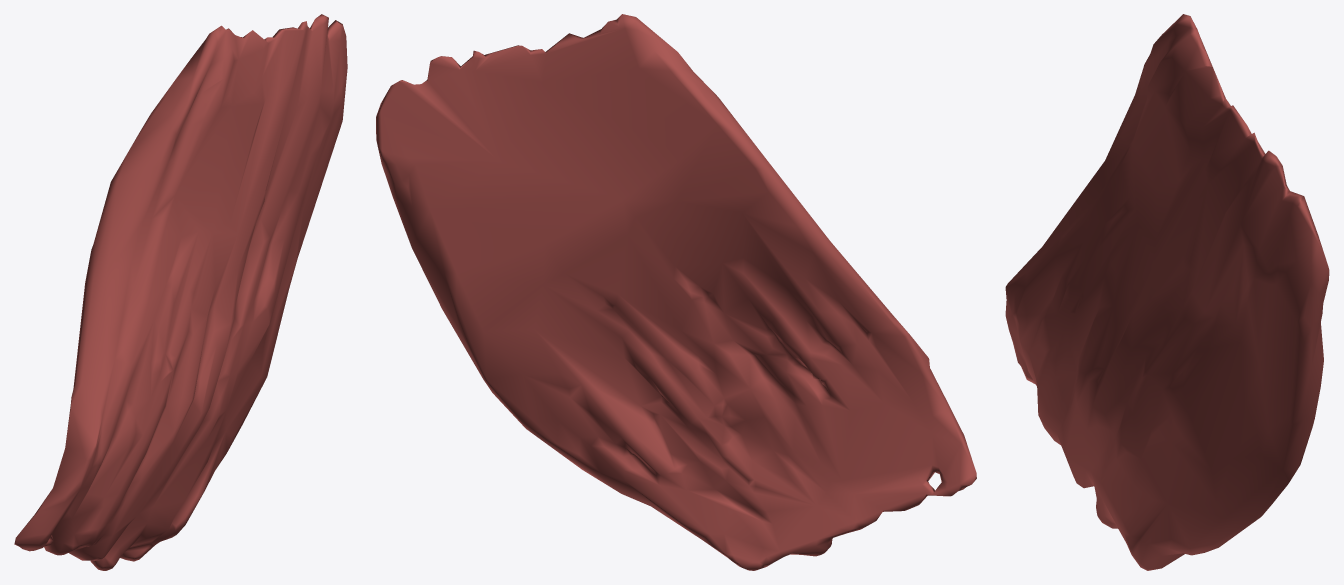
Rendered from FMA46827.glb.
3 renders of one model, left to right at view 1: azimuth 30°, elevation 25°; view 2: azimuth 150°, elevation 25°; view 3: azimuth 270°, elevation 25°, orthographic. The views are drawn at different scales.
Parts seen in each view (by area): view 1: FMA46827; view 2: FMA46827; view 3: FMA46827.
Boxes of the visible parts, x1,y1,x2,y2 form: FMA46827: (14, 14, 347, 570); FMA46827: (376, 14, 976, 570); FMA46827: (1005, 14, 1329, 570).
Bounding box in the file's own units: 0.0133 × 0.0143 × 0.00683.
